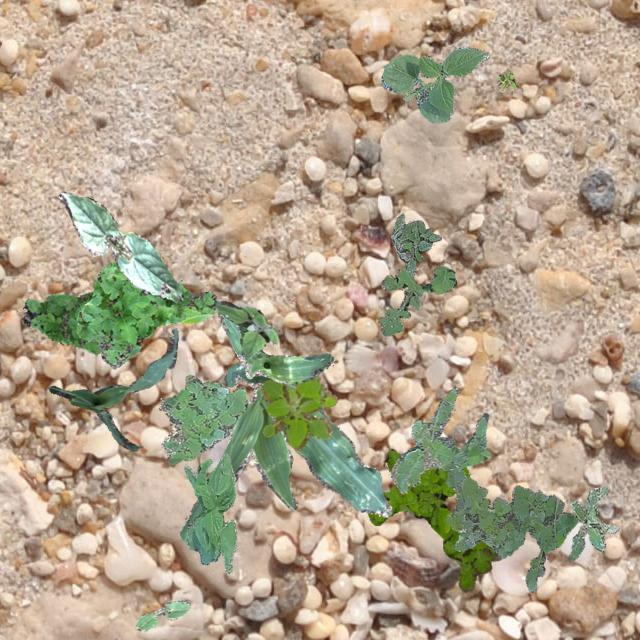crop: (180, 352, 390, 542), (46, 328, 176, 450), (58, 190, 182, 302), (380, 46, 488, 121), (218, 312, 330, 382), (183, 452, 236, 572), (134, 600, 190, 630)
weed: (367, 448, 501, 592), (444, 468, 576, 592), (76, 260, 216, 368), (390, 387, 490, 492), (160, 374, 246, 464), (260, 374, 336, 449), (376, 266, 456, 334), (21, 290, 100, 352), (568, 486, 618, 560), (214, 300, 276, 358), (390, 212, 440, 276), (496, 68, 516, 90)
